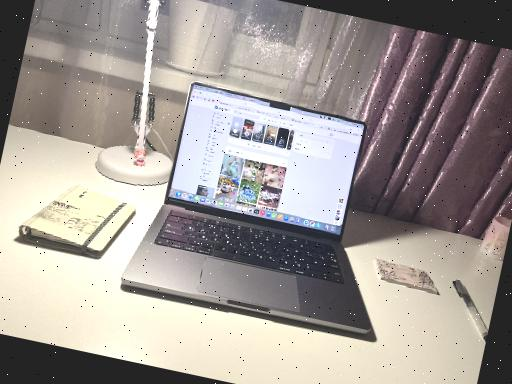vk: (172, 99, 362, 226)
